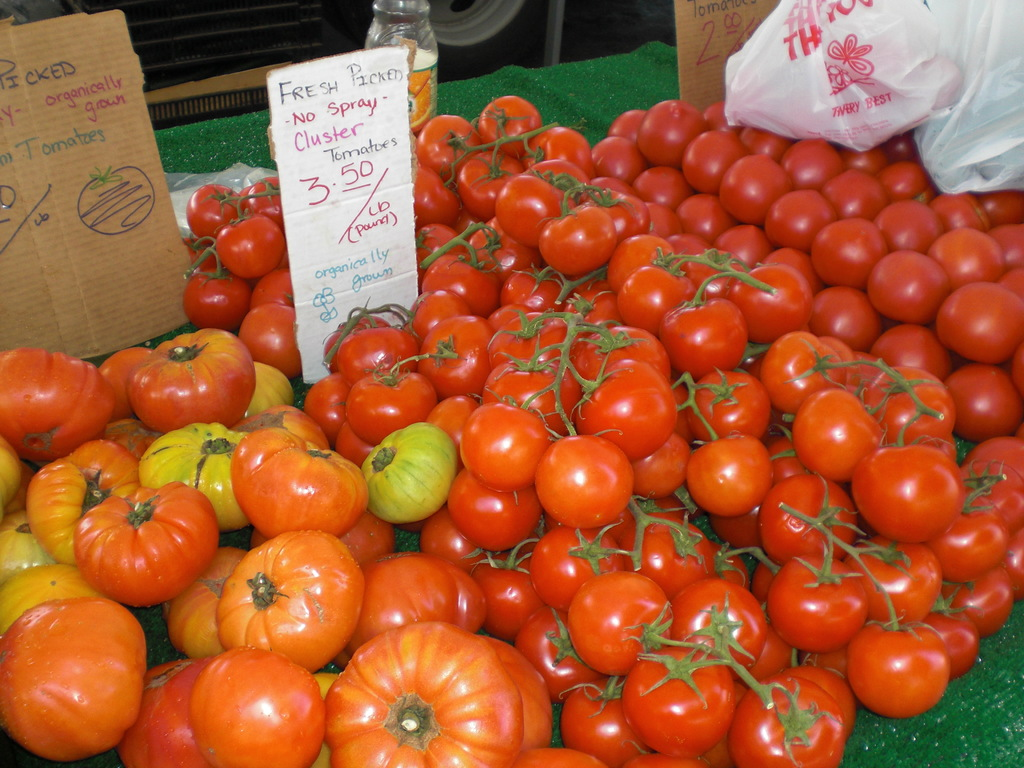Tomato: (0, 97, 1023, 767), (1, 583, 143, 765), (846, 605, 954, 718)
